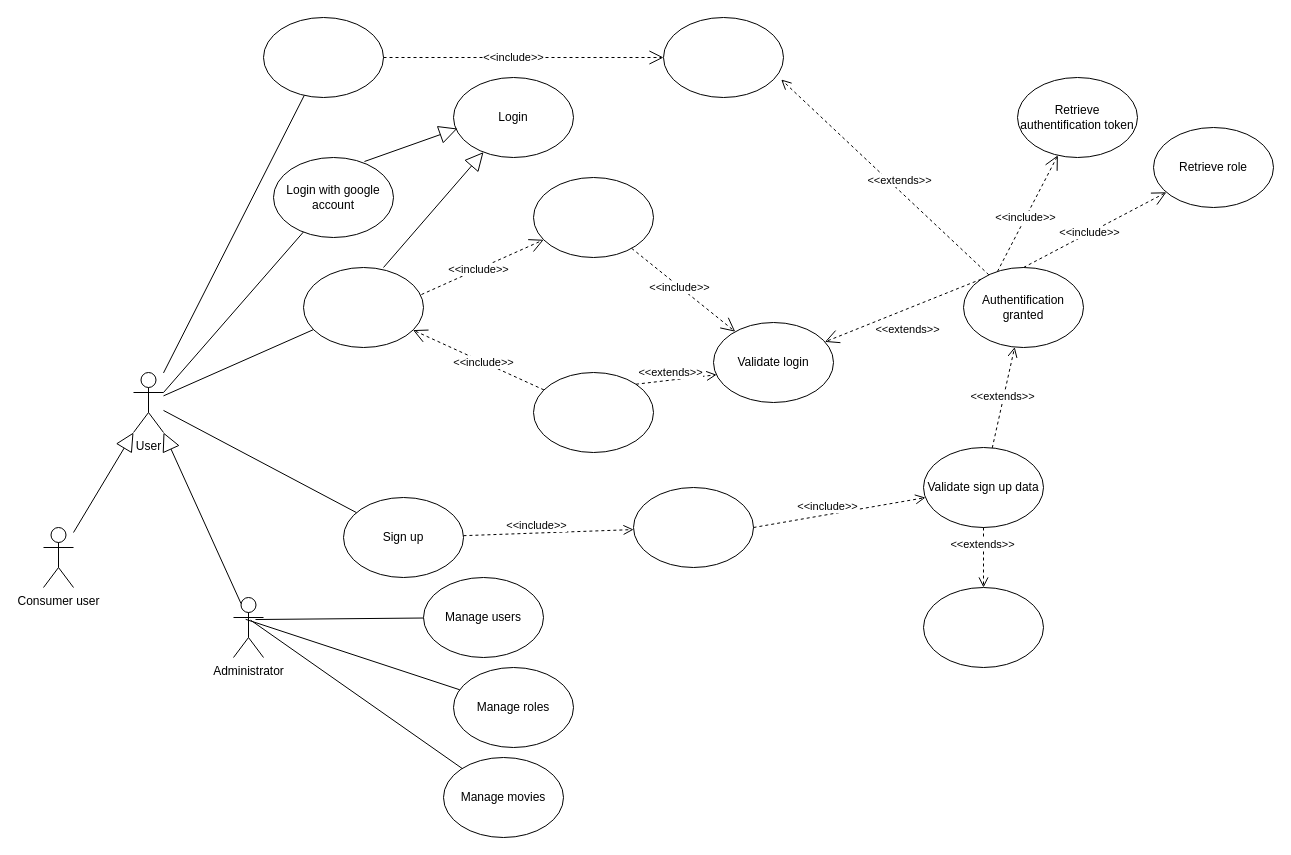
Image size: 1291x855. Some labels were removed from this diagram. The shapes that lost their labels are listed below. From the top down, each one's centre as x and y in pixels, then its label:
pixel 323 57: Forgot password
pixel 723 57: Reset password
pixel 593 217: Request authentification data
pixel 363 307: Login locally
pixel 593 412: Authentification denied
pixel 693 527: Request sign up data
pixel 983 627: Sign up failed
